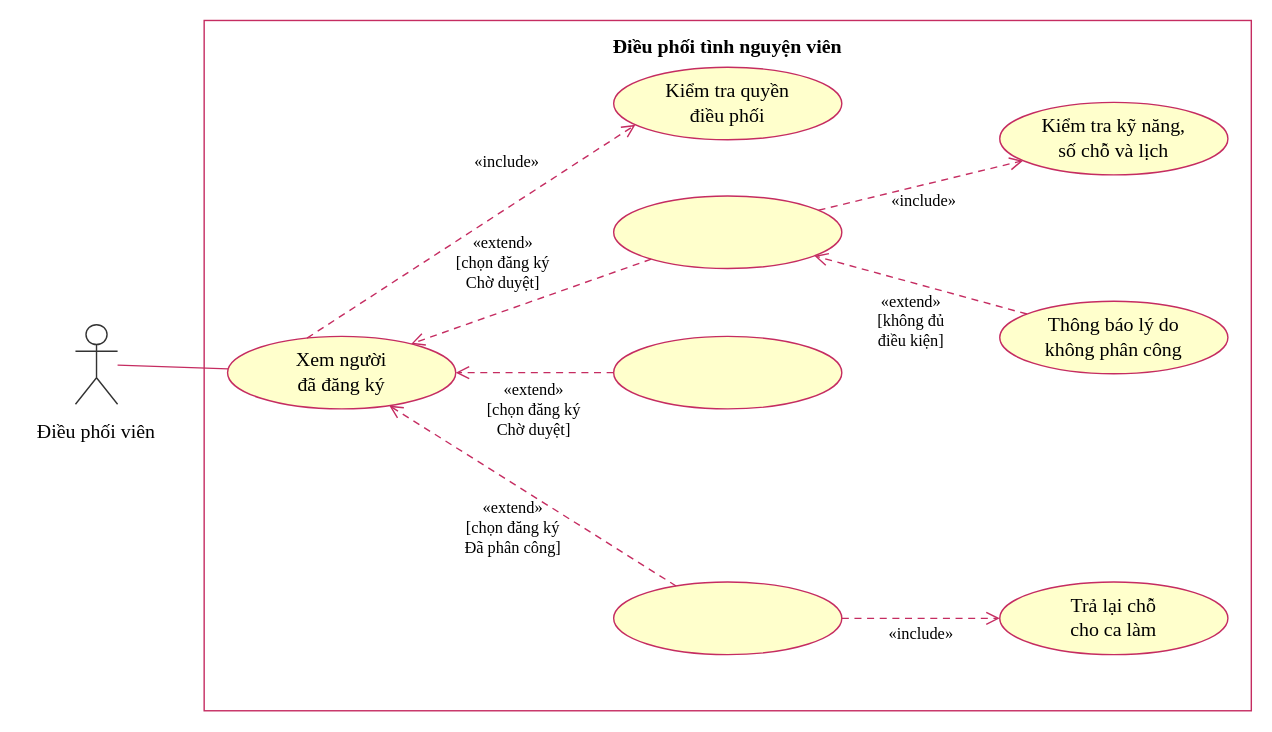
This 1272x732 diagram has some shape labels left out. The centre of each missing label's shape, as x and y in pixels:
"Hủy phân công" belongs at (x=727, y=618).
"Phân công tình nguyện viên" belongs at (x=727, y=232).
"Từ chối đăng ký" belongs at (x=727, y=372).
